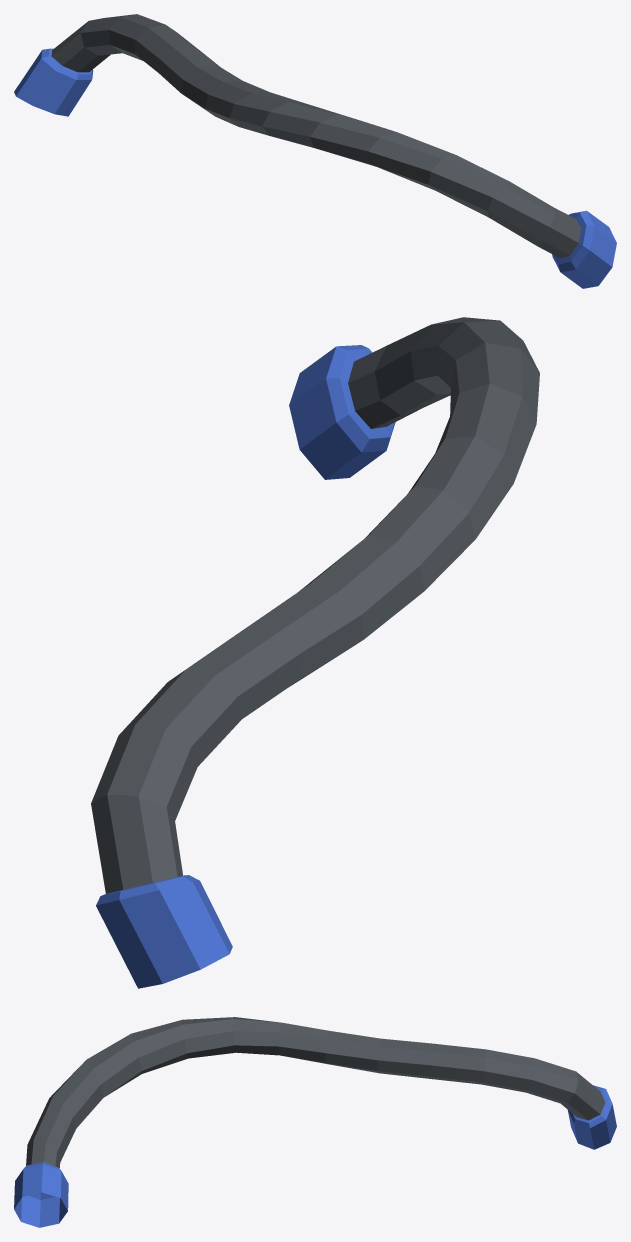
Rendered from Personal_Vehicle_04_Connecting_Tubes_2_Blue.fbx.
3 views of the same model, one above another, from view 1: azimuth 30°, elevation 25°; view 2: azimuth 150°, elevation 25°; view 3: azimuth 270°, elevation 25° (orthographic). The views are drawn at different scales.
Parts seen in each view (by area): view 1: Personal_Vehicle_04_Connecting_Tubes_2_Blue; view 2: Personal_Vehicle_04_Connecting_Tubes_2_Blue; view 3: Personal_Vehicle_04_Connecting_Tubes_2_Blue.
Boxes of the visible parts, left/top/right/bottom form: Personal_Vehicle_04_Connecting_Tubes_2_Blue: left=14, top=14, right=616, bottom=288; Personal_Vehicle_04_Connecting_Tubes_2_Blue: left=91, top=317, right=539, bottom=988; Personal_Vehicle_04_Connecting_Tubes_2_Blue: left=14, top=1017, right=616, bottom=1227.
Size of the model in its own units: 34 by 18.93 by 73.61.
1 material, 1 textured.
